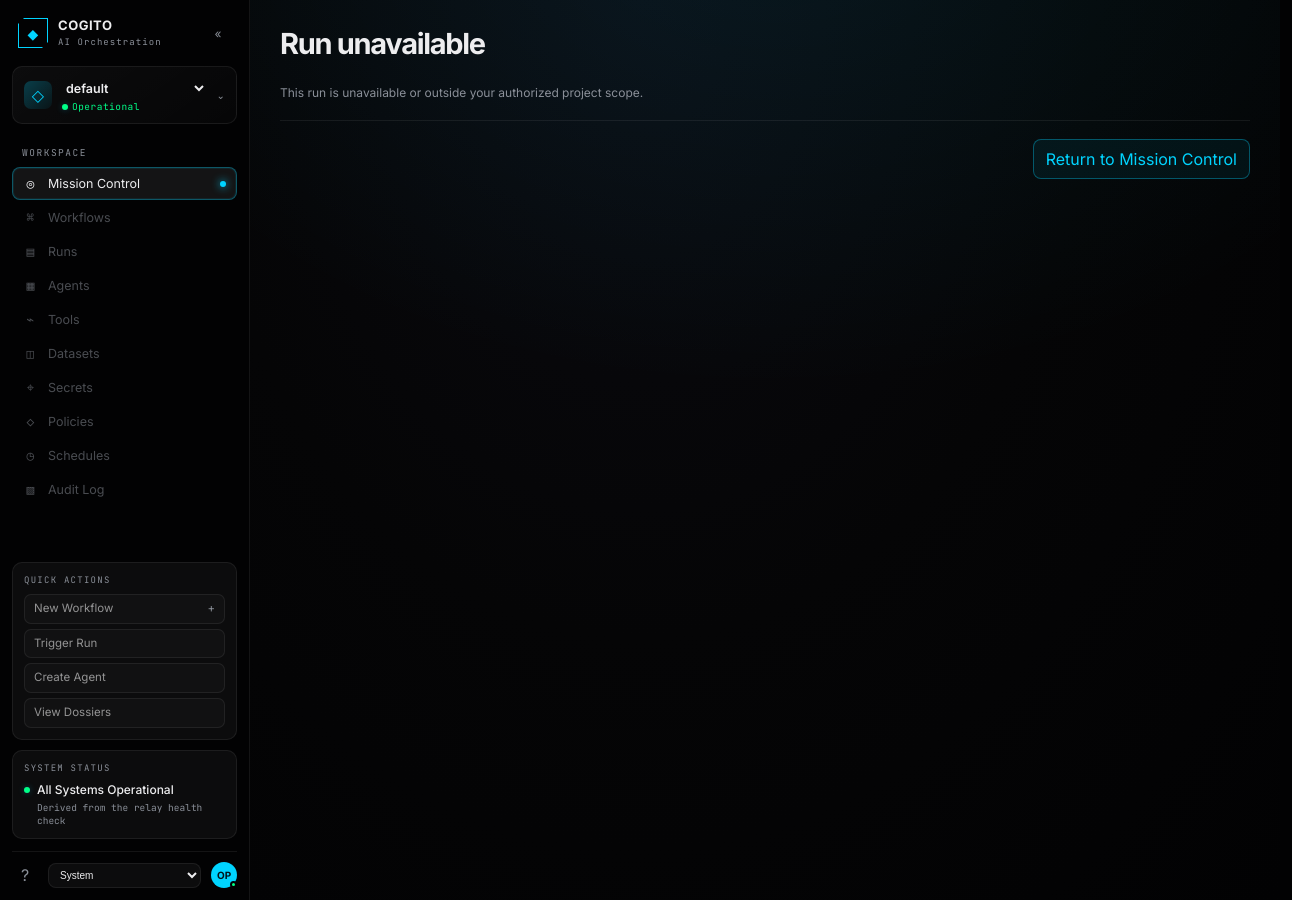
Test case: shows a non-disclosing recovery state for an unavailable direct run link
This screenshot has width=1292, height=900.
Check: the heading "Run unavailable" is shown, box x1=280 y1=26 x2=485 y2=61
Click the button "Return to Mission Control" at (1141, 159), box x1=1033 y1=139 x2=1250 y2=179
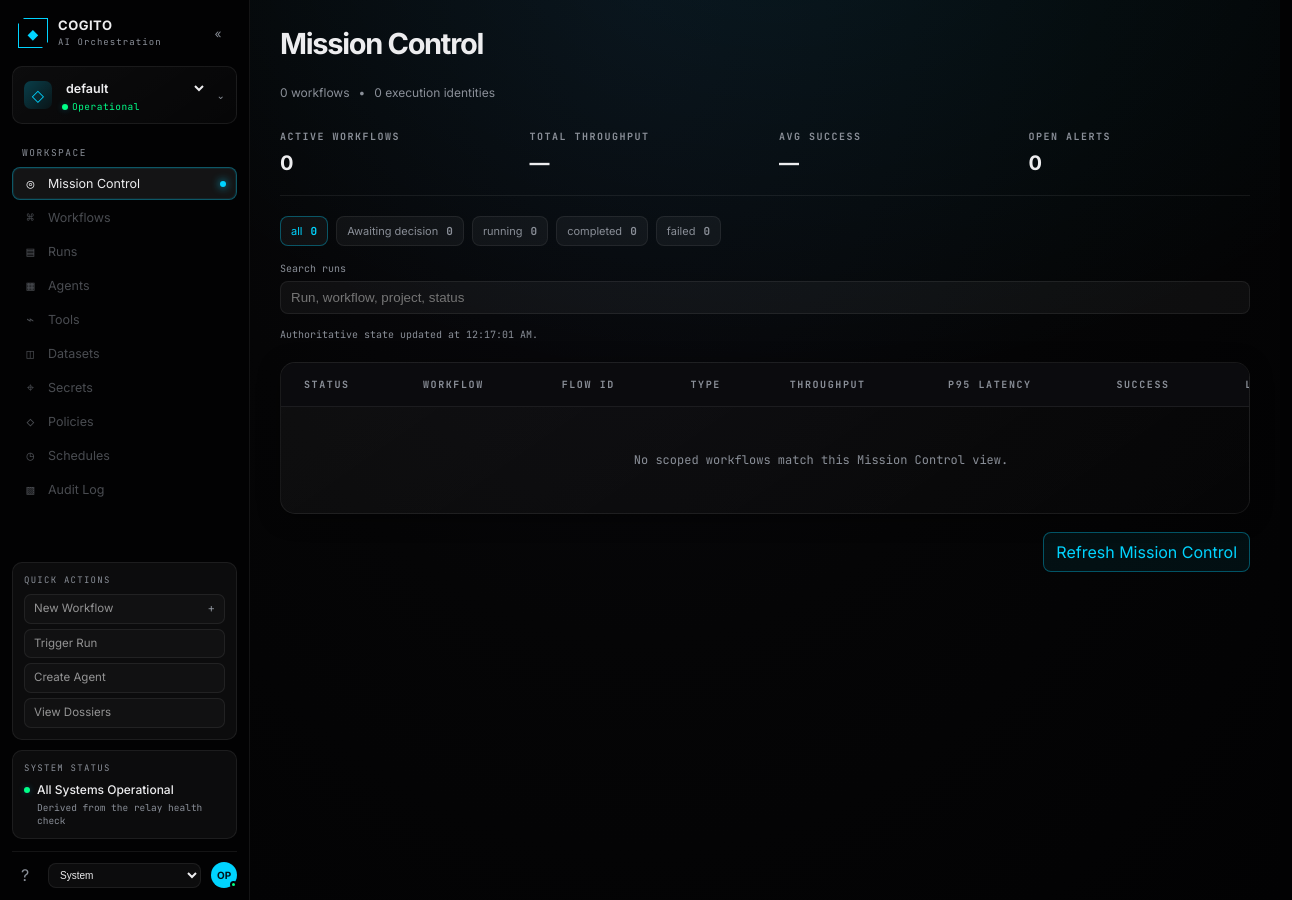
Check: the heading "Mission Control" is shown, box x1=280 y1=26 x2=483 y2=61
